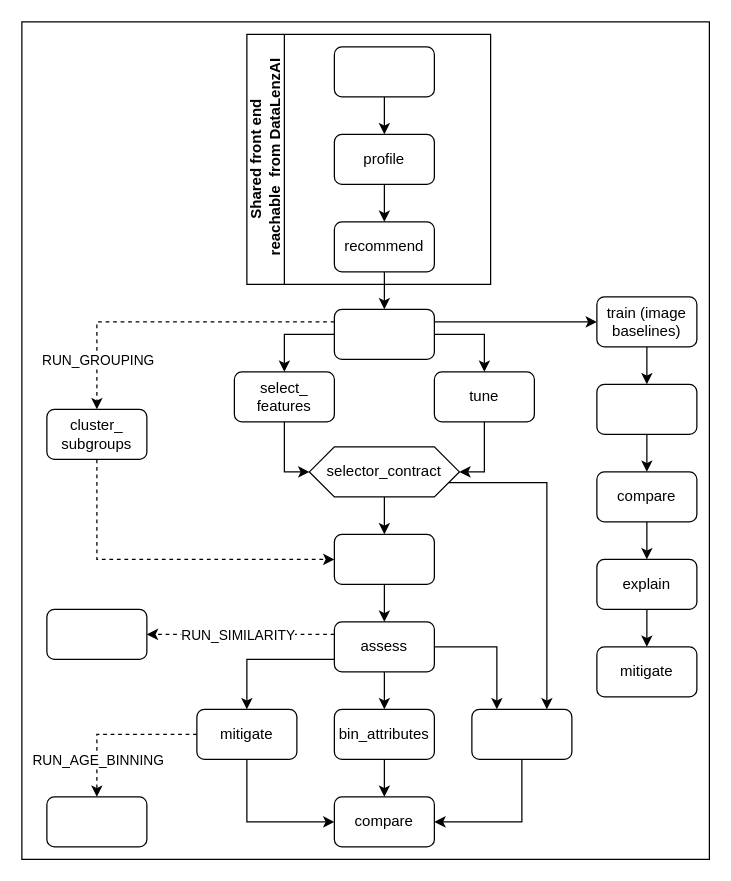
Some shapes in this 731 by 881 pixel diagram are drawn without their labels. The shapes that lost their labels are listed below. From the top down, each one's box as (x1, y1, x2, y2) in pixels, then its label:
(333, 46, 434, 97): load
(333, 308, 434, 359): preprocess
(596, 383, 697, 434): assess (image specific)
(333, 533, 434, 584): train
(46, 608, 147, 659): similarity_ analysis
(471, 708, 572, 759): sweep
(46, 796, 147, 847): age_binning_ analysis
